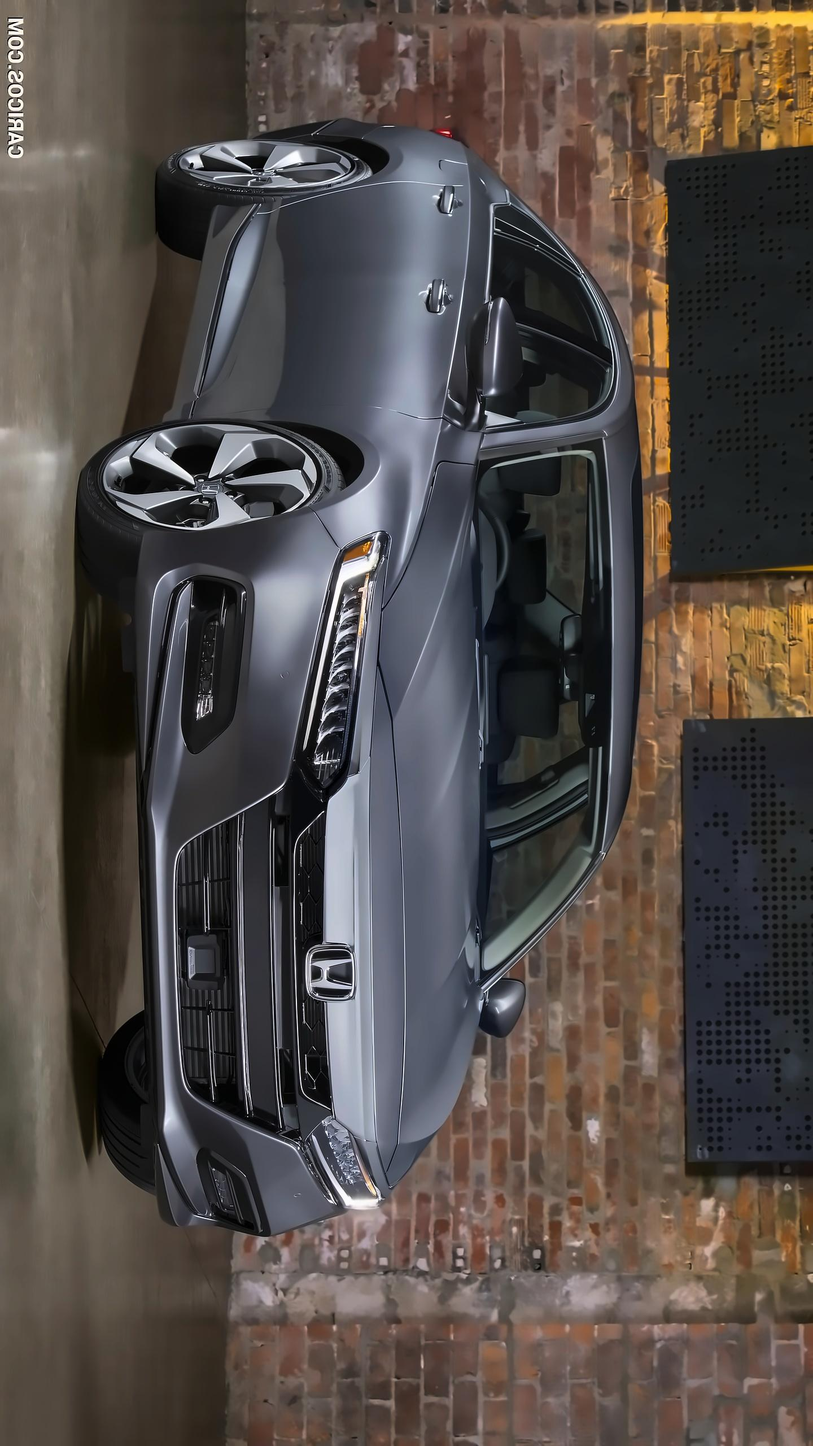Car hood: (319, 457, 494, 1199)
Driver-s door - -F-R-: (164, 294, 637, 491)
Fender - -F-R-: (158, 367, 481, 557)
Fender - -R-R-: (218, 88, 527, 210)
Front bumper: (93, 503, 366, 1249)
Headlight - -L-: (285, 1113, 396, 1229)
Headlight - -R-: (278, 520, 398, 830)
Passenger-s door - -R-R-: (150, 133, 637, 366)
Side bumper - -R-: (130, 181, 293, 426)
Side mirror - -R-: (433, 292, 529, 459)
